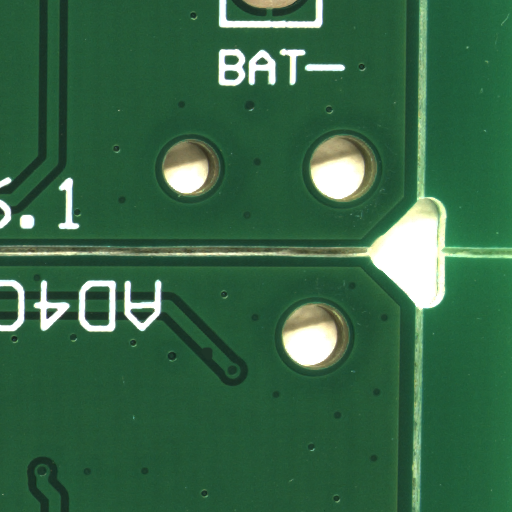Mouse_bite: (208, 353, 219, 365)
